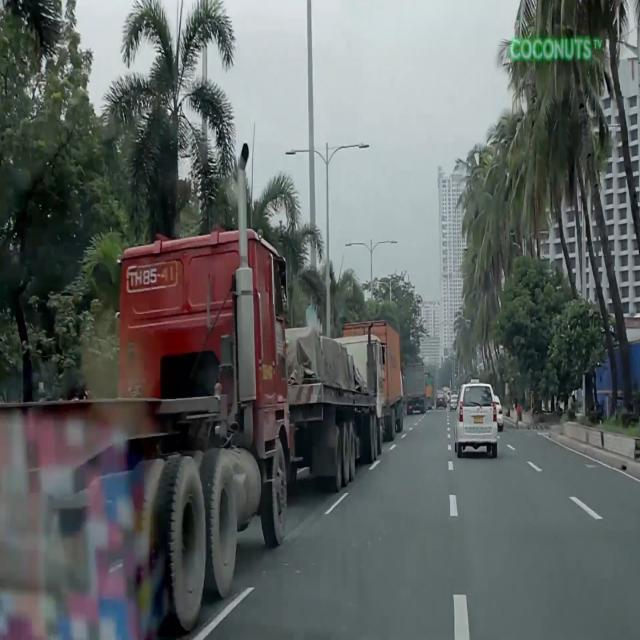truck: (0, 145, 292, 636), (282, 320, 387, 494), (343, 321, 406, 440), (405, 361, 428, 415)
